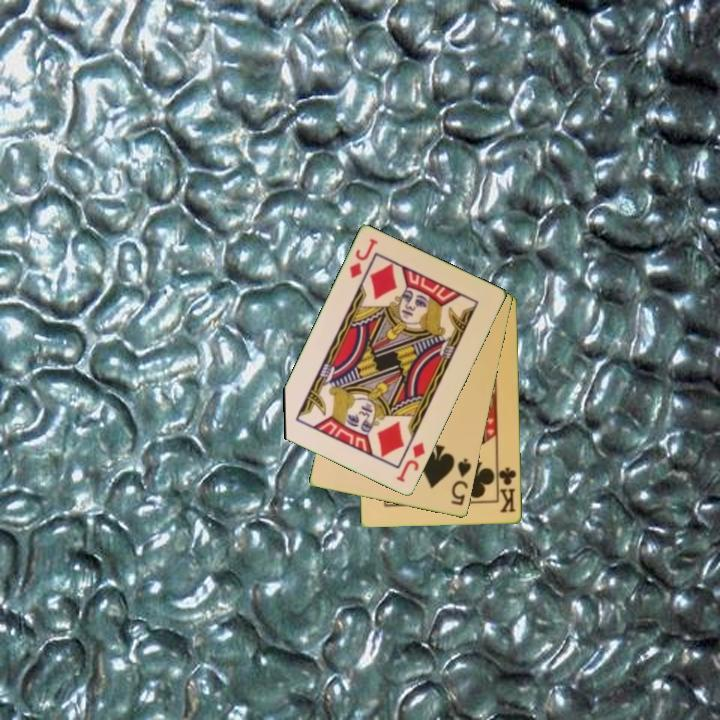5s: (447, 455, 474, 509)
Jd: (393, 439, 428, 486), (346, 235, 381, 282)
Kc: (495, 462, 519, 516)
